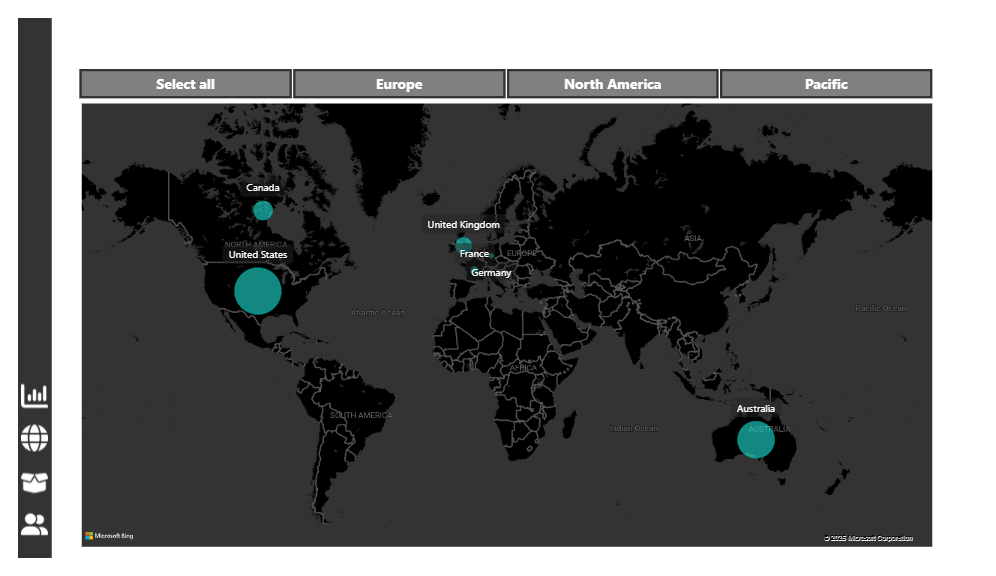

The dashboard page shown, as its layout file describes it:
{"tool":"powerbi","page":{"name":"Map","canvas":[1280,720],"ordinal":1},"visuals":[{"type":"shape","box":[0,0,45,720],"z":0},{"type":"actionButton","box":[0,481.4,44.3,45.7],"z":0,"group":"g1"},{"type":"map","fields":{"Category":["Territory Lookup.Country"],"Size":["Measure Table.Total Orders"]},"box":[80,71.4,1144.3,638.6],"z":1000},{"type":"actionButton","box":[0,597.1,44.3,45.7],"z":1000,"group":"g1"},{"type":"slicer","fields":{"Values":["Territory Lookup.Continent"]},"box":[55.7,61.4,1187.1,51.4],"z":2000},{"type":"actionButton","box":[0,537.1,44.3,45.7],"z":2000,"group":"g1"},{"type":"group","id":"g1","title":"Navigation Group","box":[0,481.4,44.3,217.1],"z":2001},{"type":"actionButton","box":[0,652.8,44.3,45.7],"z":3000,"group":"g1"}]}

Visuals, with their boxes in screenshot pixels (x1, y1, x2, y2):
shape: box=[16, 16, 49, 548]
actionButton: box=[16, 372, 48, 406]
map - Territory Lookup.Country x Measure Table.Total Orders: box=[75, 68, 922, 541]
actionButton: box=[16, 458, 48, 491]
slicer - Territory Lookup.Continent: box=[57, 61, 935, 99]
actionButton: box=[16, 413, 48, 447]
"Navigation Group" group: box=[16, 372, 48, 533]
actionButton: box=[16, 499, 48, 533]
